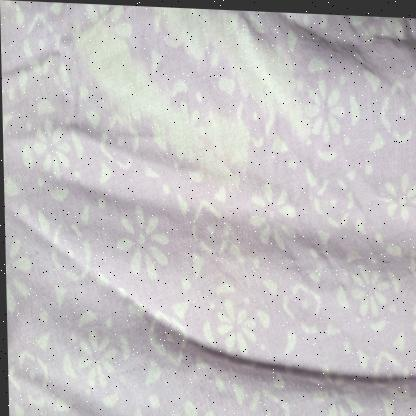spot: (6, 298, 21, 347)
